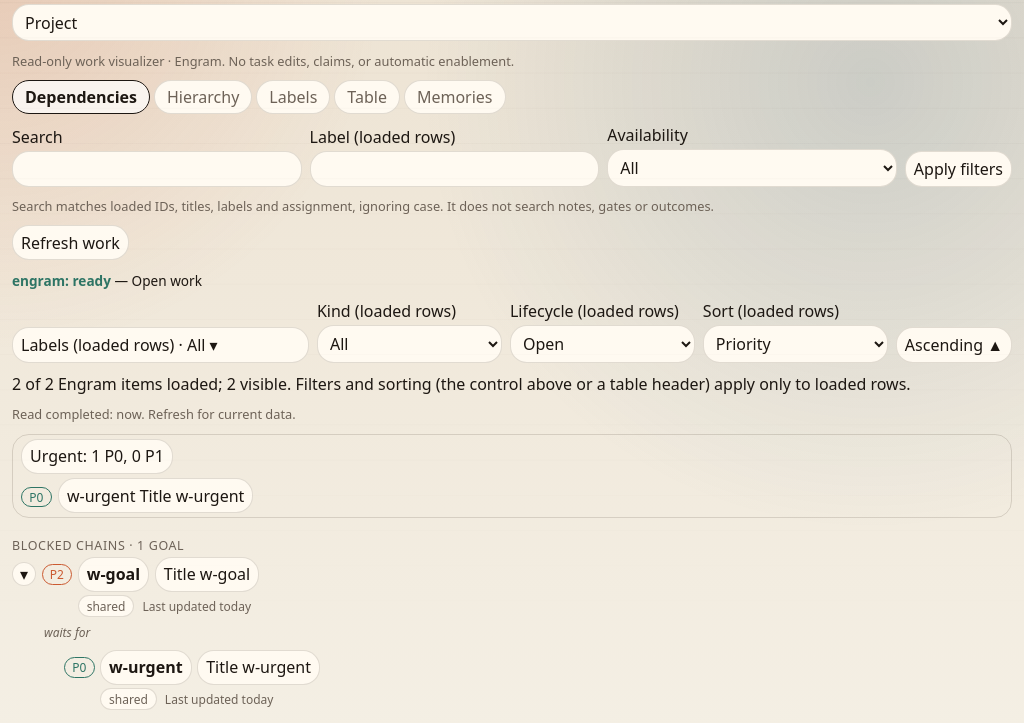
Test case: Urgent strip reveal of hidden rows › expands a collapsed Dependencies branch that holds the urgent item
This screenshot has width=1024, height=723.
Click the button named "Collapse w-goal": {"x": 24, "y": 574} [12,562,36,586]
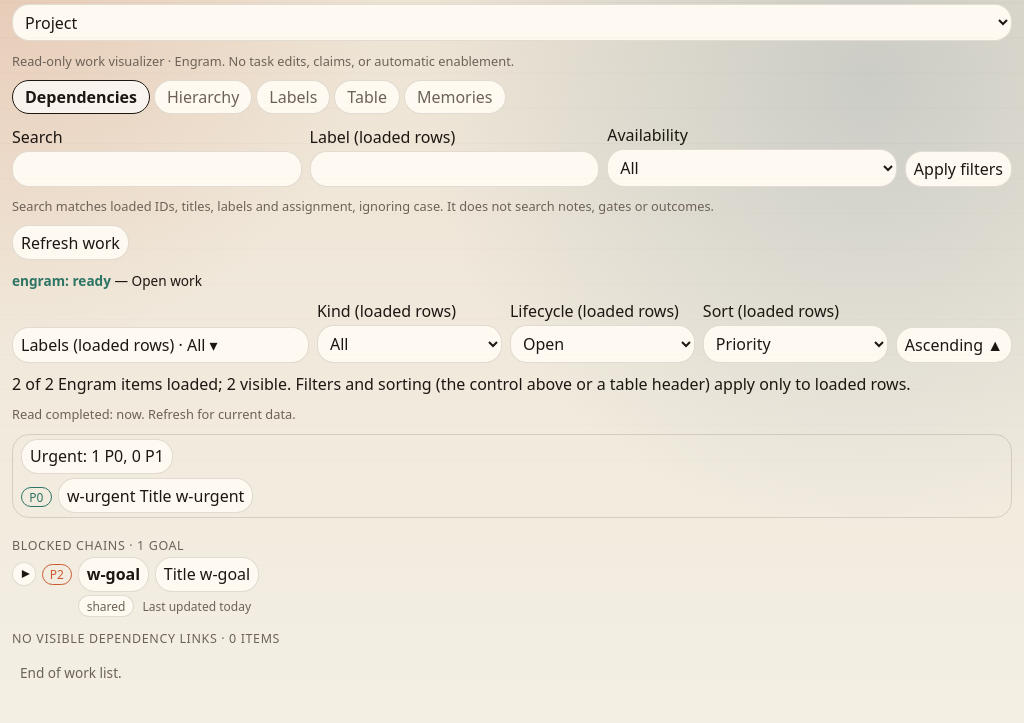
Click the button "w-urgent Title w-urgent": {"x": 156, "y": 496} [58,478,253,513]
(page scrolled)
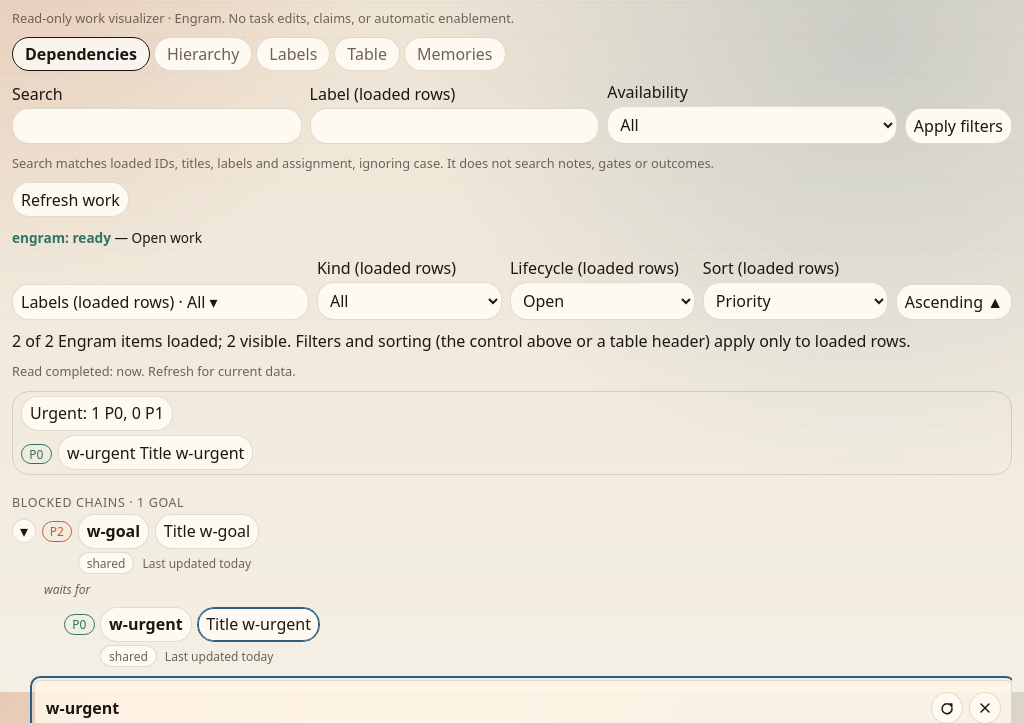
Expected: the button named "Collapse w-goal" is shown, [12,519,36,543]
